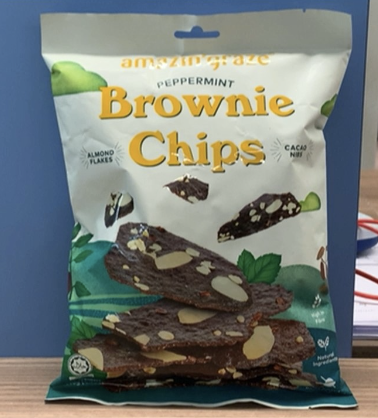crackers_100g-199g: (68, 53, 324, 388)
